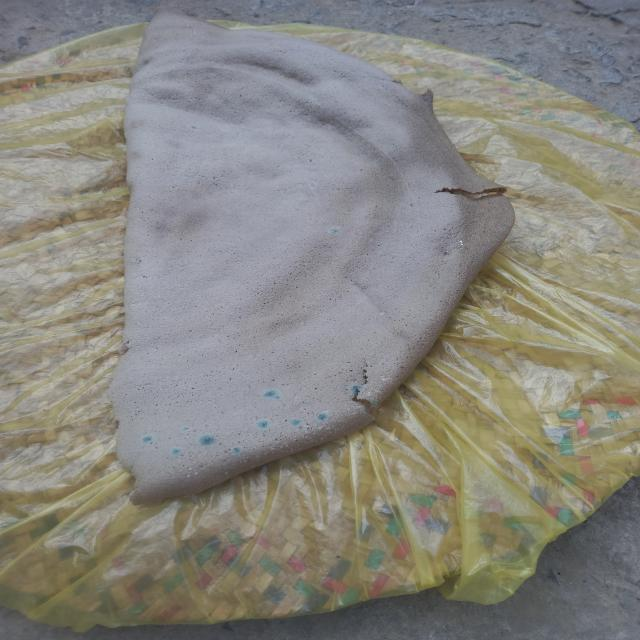injera_mold: (300, 422, 323, 442), (198, 435, 217, 445), (366, 388, 382, 398), (380, 377, 394, 388), (349, 385, 364, 395), (141, 434, 154, 444), (256, 420, 270, 429), (316, 413, 329, 421), (264, 390, 276, 397), (232, 446, 242, 454), (171, 448, 182, 454), (291, 420, 302, 426), (330, 228, 340, 234), (181, 426, 190, 432), (459, 240, 465, 247), (371, 400, 377, 406), (190, 125, 198, 129), (186, 473, 191, 478), (274, 396, 281, 399), (194, 471, 199, 475), (224, 471, 229, 475), (188, 467, 192, 471), (346, 407, 350, 411), (352, 412, 357, 415), (357, 406, 362, 408), (193, 29, 196, 32), (244, 460, 248, 462), (296, 398, 300, 400), (239, 461, 242, 463), (446, 250, 449, 252), (452, 234, 454, 237), (243, 457, 245, 459), (460, 248, 462, 250), (441, 239, 443, 241), (186, 24, 188, 26), (458, 233, 461, 234), (185, 34, 188, 35), (202, 32, 205, 33), (190, 34, 192, 35), (194, 33, 196, 34), (247, 457, 248, 458)
